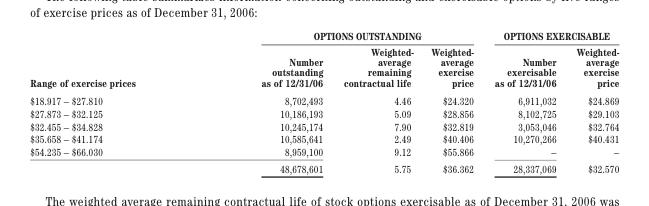table: (29, 29, 618, 174)
table column: (29, 29, 197, 174), (197, 29, 332, 174), (332, 29, 421, 174), (483, 29, 565, 174), (421, 29, 483, 174), (565, 29, 618, 174)
table column header: (29, 29, 618, 90)
table row: (29, 43, 618, 90), (29, 90, 618, 106), (29, 145, 618, 160), (29, 29, 618, 43), (29, 160, 618, 174), (29, 106, 618, 119), (29, 119, 618, 132), (29, 132, 618, 145)
table spanning cell: (29, 29, 197, 90), (197, 29, 483, 43), (483, 29, 618, 43)
